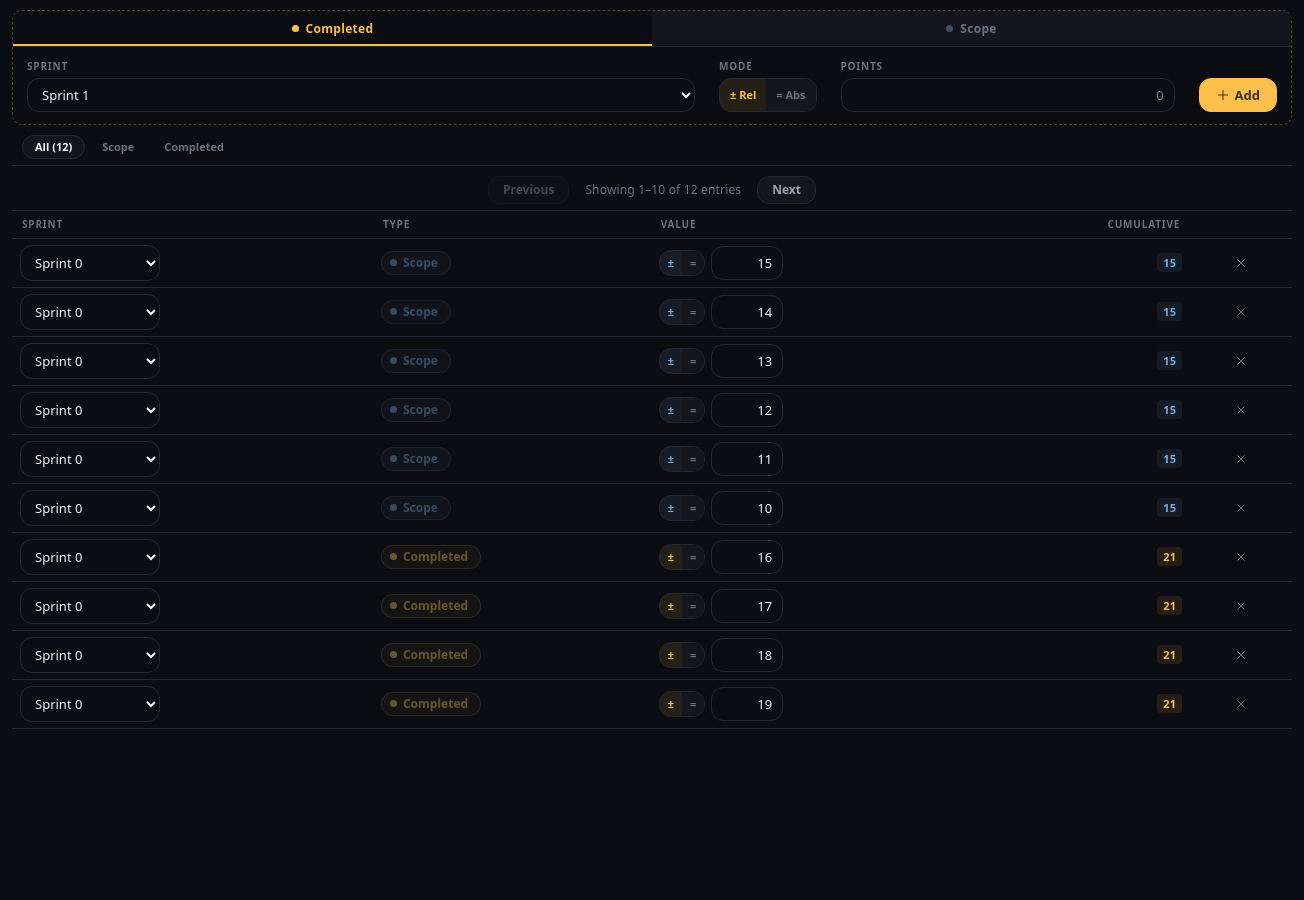
DataTable › pagination › clamps to page 1 when entries shrink below current offset
# Go to page 2
Click the button with aria-label "Next page" at [787, 190], box [757,176,816,204]
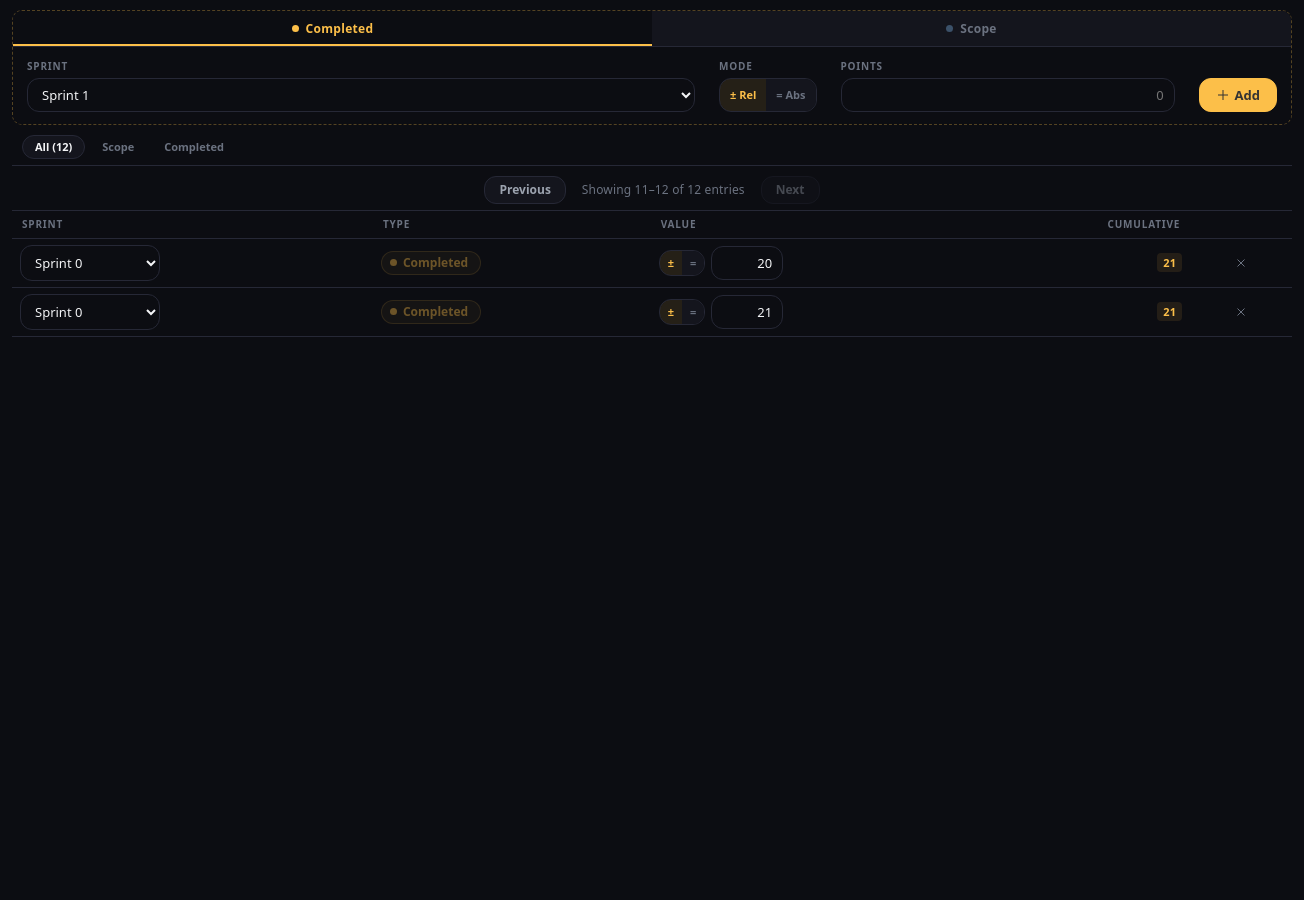
Now the text "Showing 11–12 of 12 entries" is shown, box [582,181,745,199]
